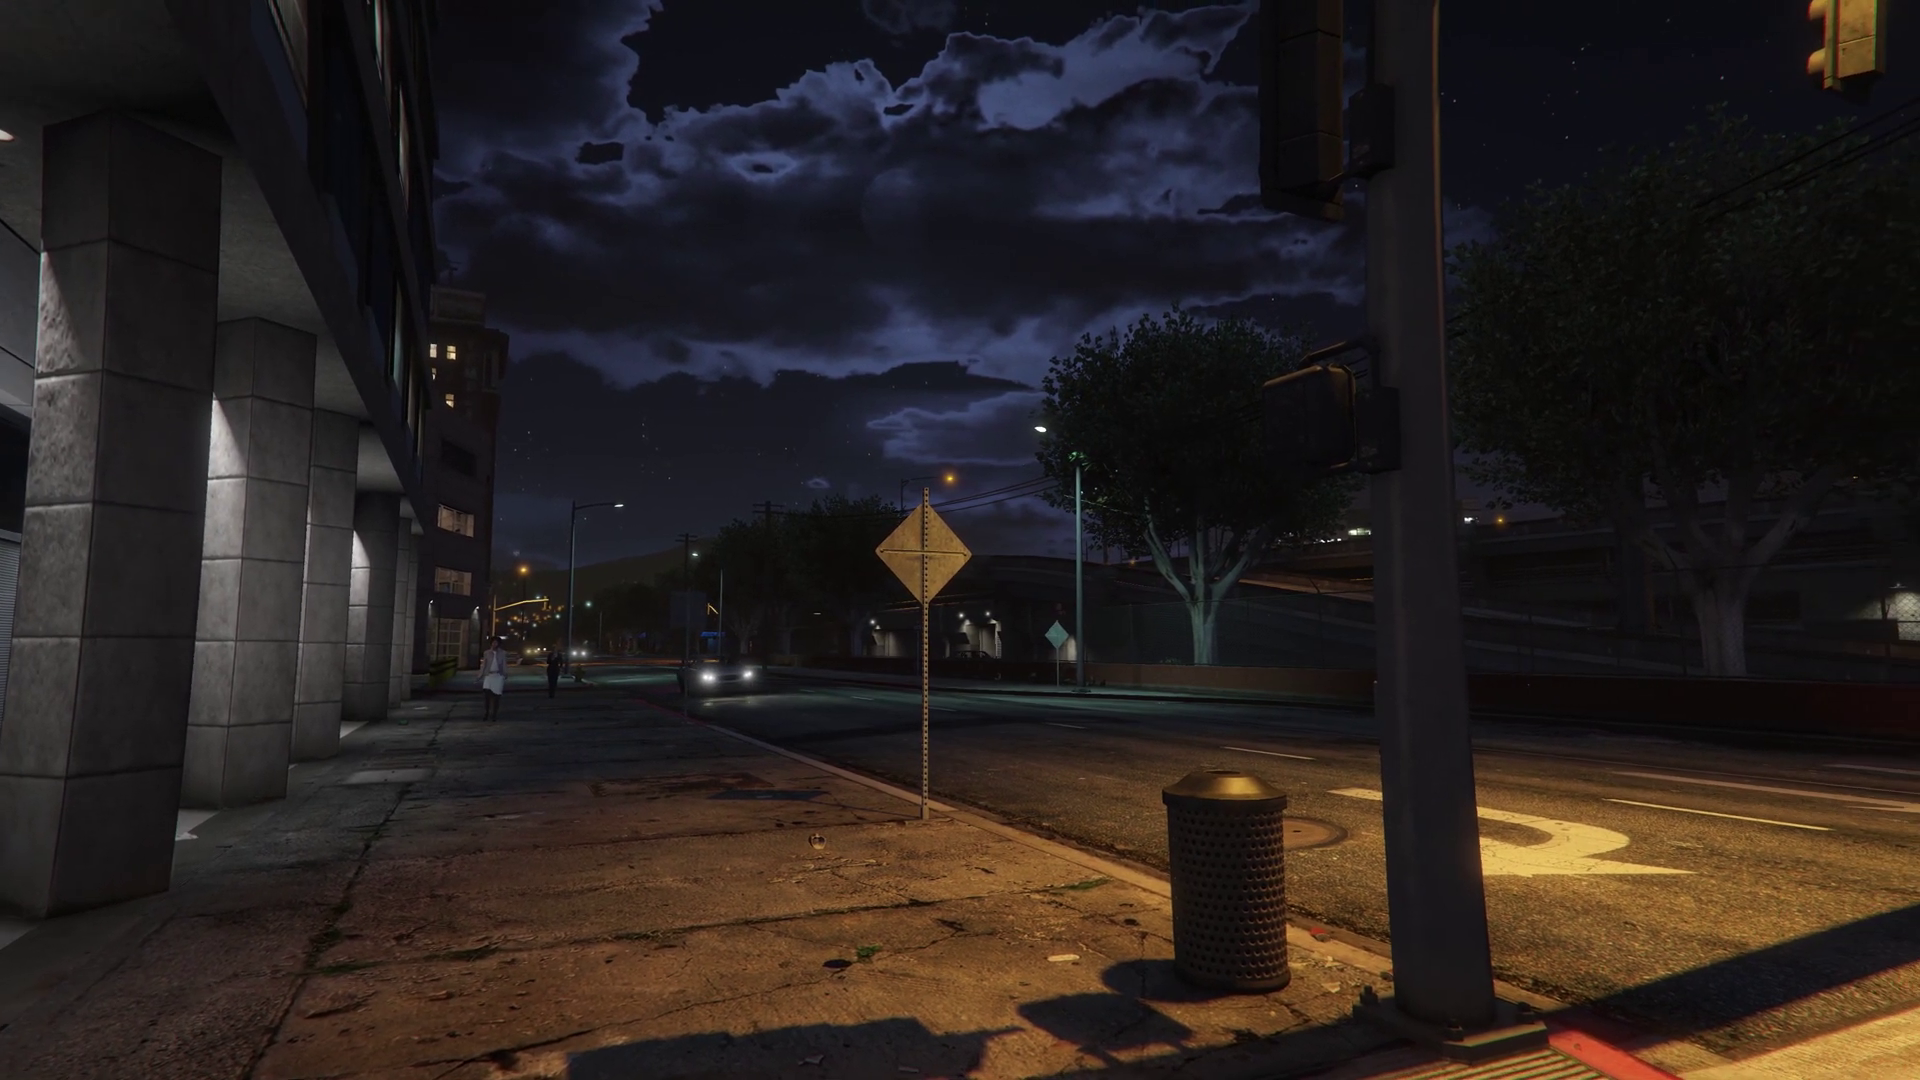car: (676, 654, 753, 694)
person: (477, 636, 507, 720), (547, 645, 562, 696)
traffic light: (1257, 6, 1349, 218), (1261, 364, 1360, 476), (1806, 1, 1883, 97)
